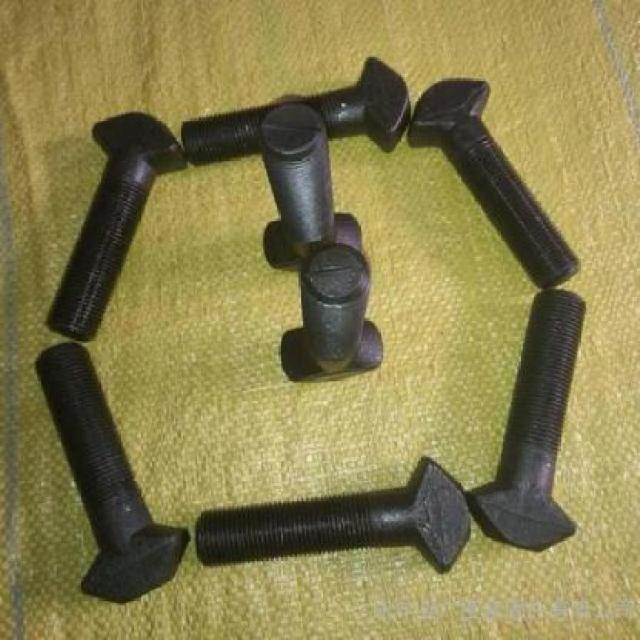Bolt: (34, 340, 190, 606), (409, 76, 586, 290), (193, 454, 476, 577), (466, 286, 593, 552), (45, 112, 191, 343), (182, 54, 414, 169), (256, 101, 363, 272), (279, 243, 386, 385)
